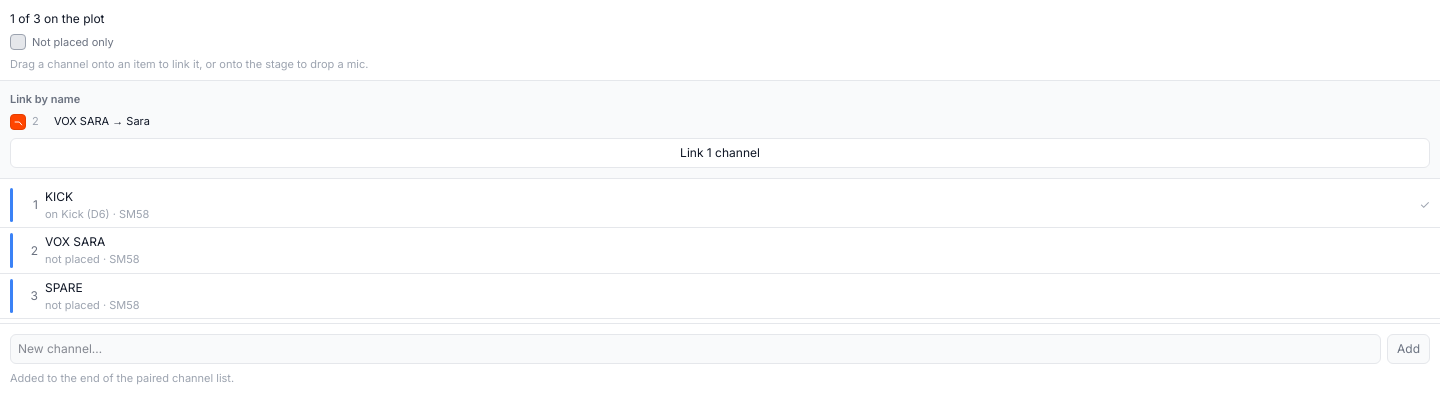
Scenario: ChannelsPanel › "Not placed only" hides placed channels
Click the checkbox labelled "Not placed only" at (18, 42), box [10,34,26,50]
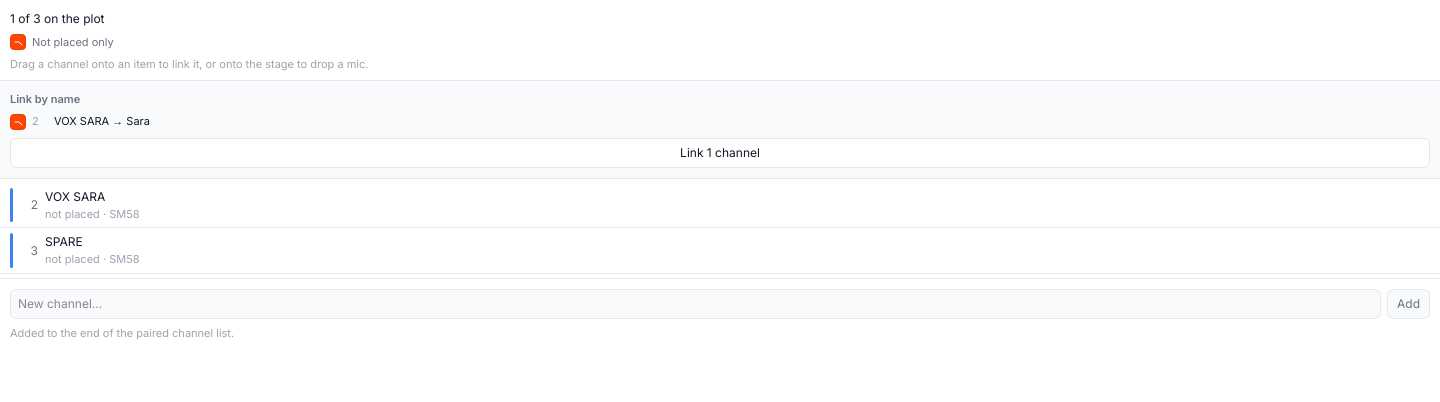
Expected: the text "KICK" is gone
